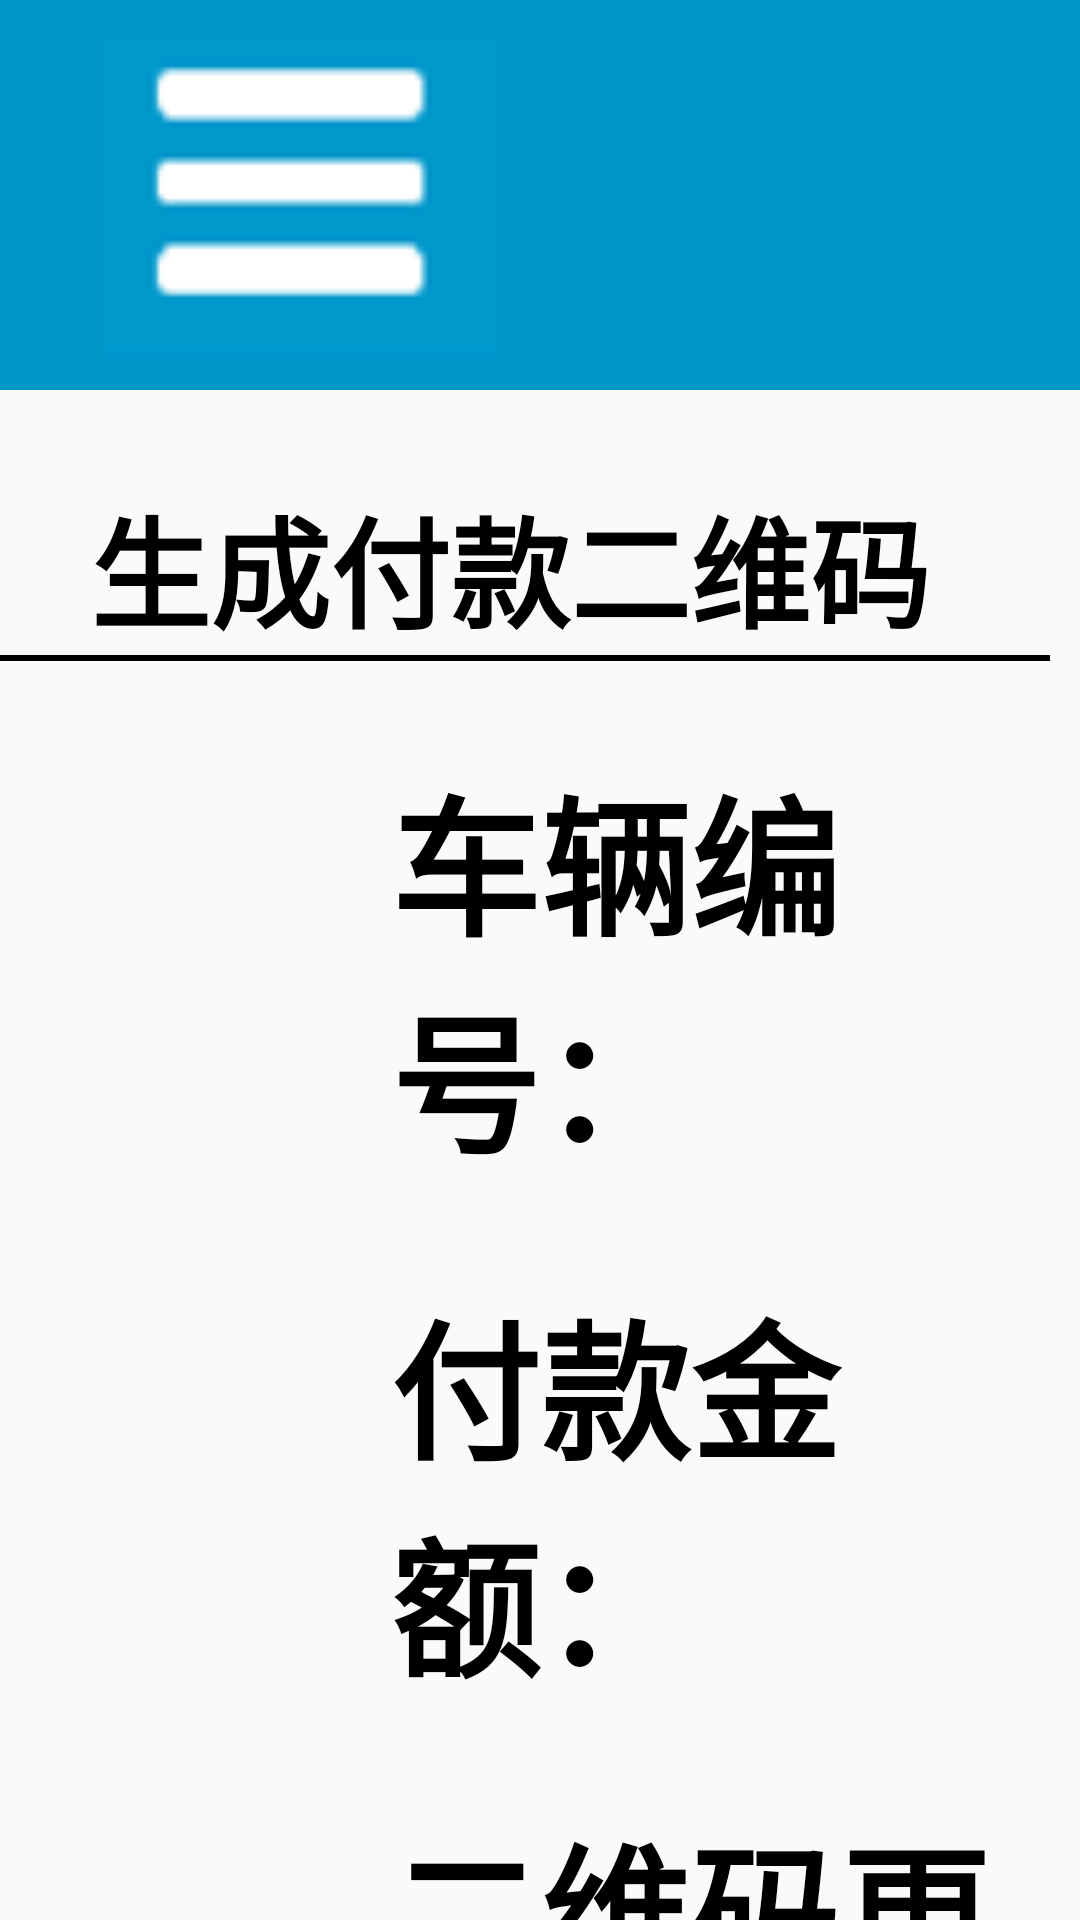

Icons on this 1080w x 1920h Android screen, each with its box as (x1, y1, x2, y2):
caidan: (154, 67, 428, 297)
